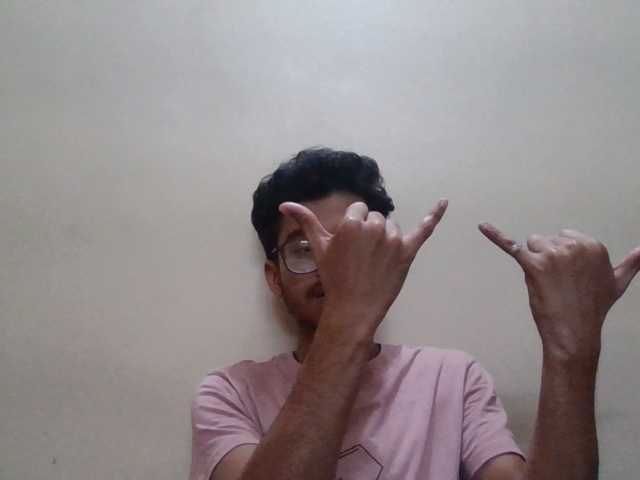today: (276, 197, 636, 332)
